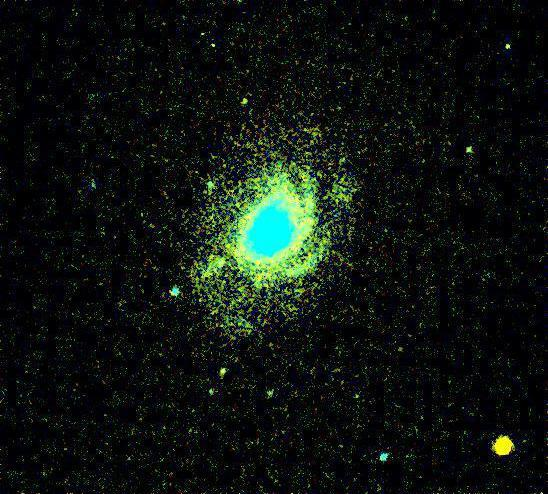star: (488, 429, 518, 459)
